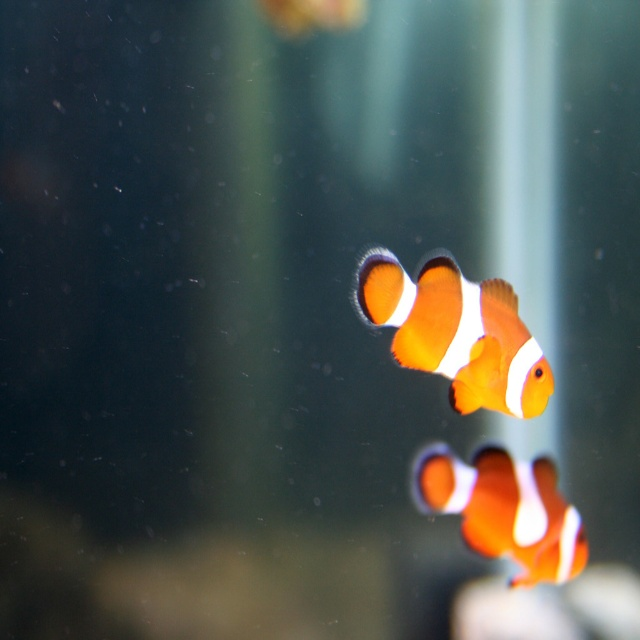Fish: (359, 245, 552, 420), (408, 446, 588, 590)
